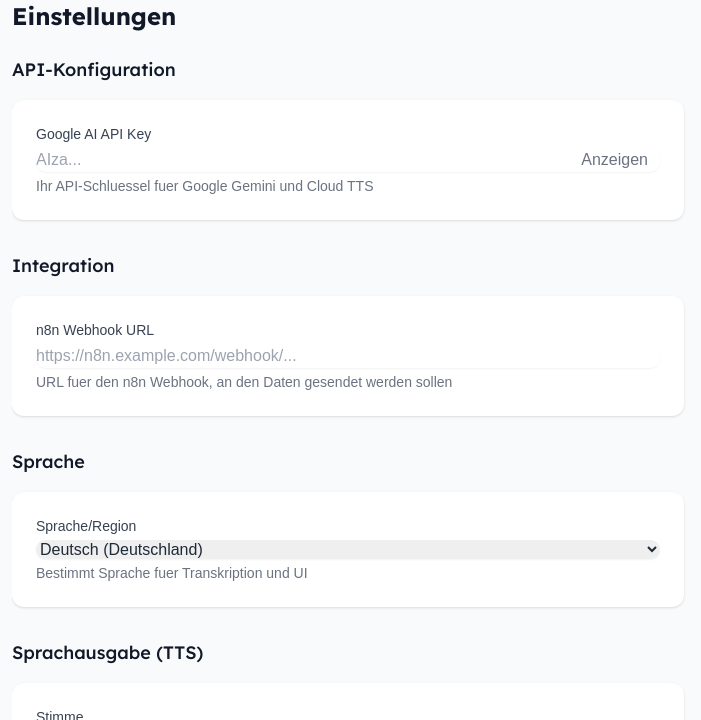
Test: Settings Page › Form Submission › should show success message after saving
Note: Set a valid API key first
Type "test-key" into the password field labelled "Google AI API Key".
click(348, 160); type("test-key")  # box [36,148,660,172]
(page scrolled)
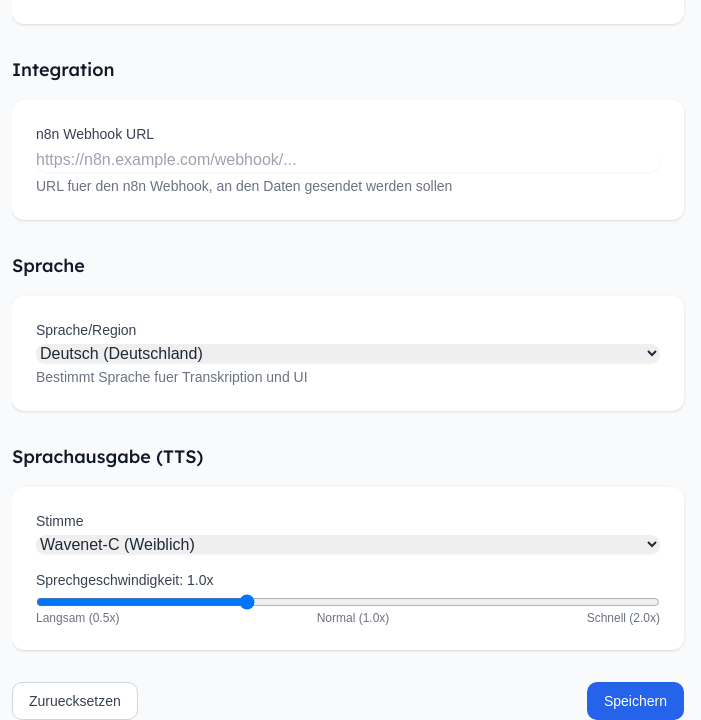
Click the button "Speichern".
click(636, 701)  # box [587,682,684,719]
(page scrolled)
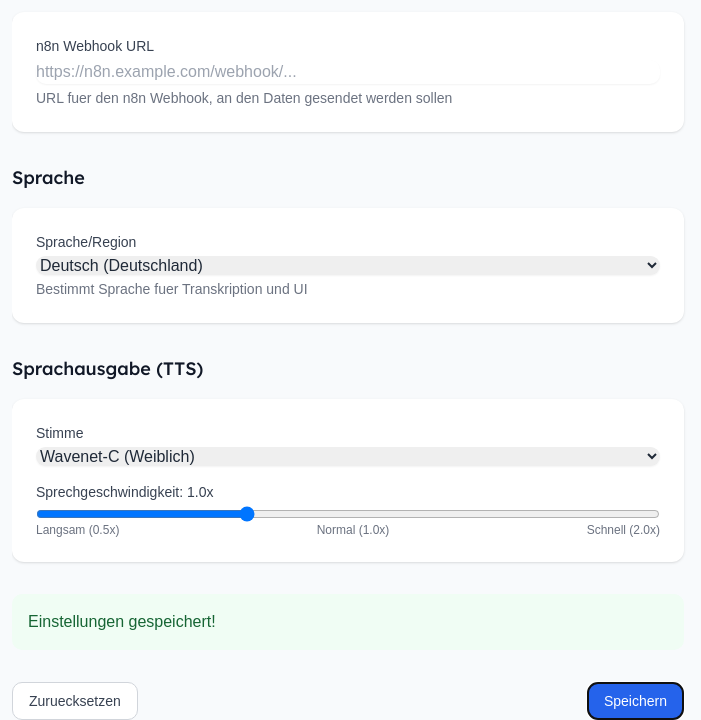
Check: the text "Einstellungen gespeichert!" is shown, box [12,594,684,650]
